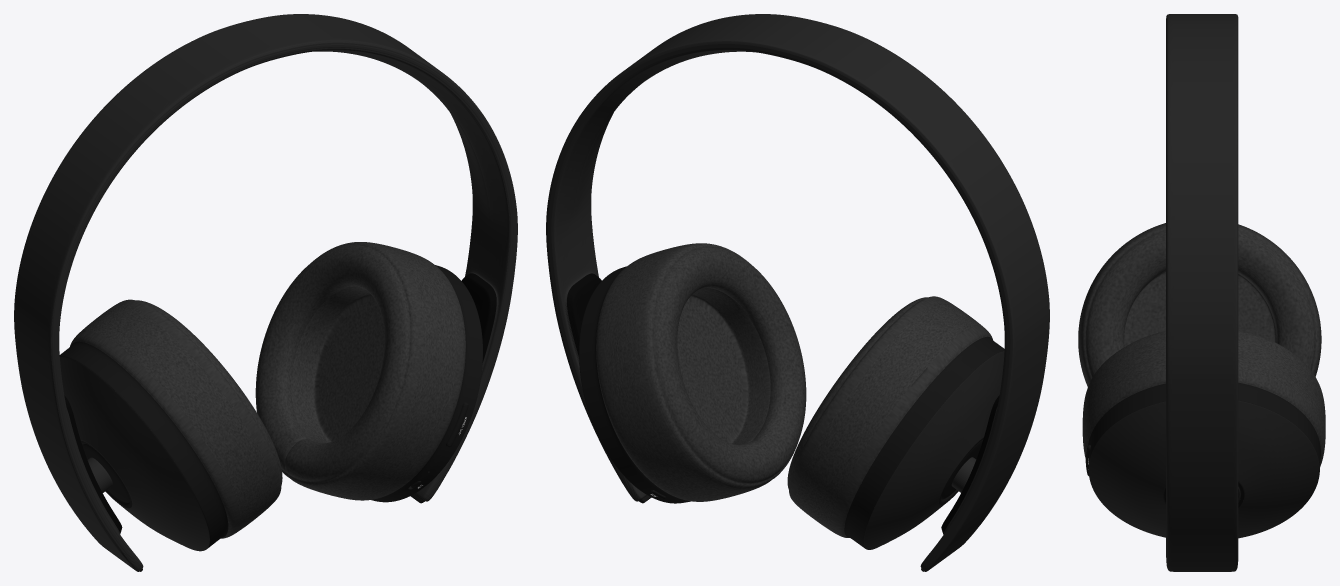
File: hinge.glb
3 renders of one model, left to right at view 1: azimuth 30°, elevation 25°; view 2: azimuth 150°, elevation 25°; view 3: azimuth 270°, elevation 25°, orthographic. The views are drawn at different scales.
Parts seen in each view (by area): view 1: Scaffold, EarDeco, Ear; view 2: EarDeco, Scaffold, Ear; view 3: Scaffold, EarDeco, Ear.
Boxes of the visible parts, bbox=[...] form: Scaffold: bbox=[14, 14, 517, 571]; EarDeco: bbox=[255, 242, 482, 502]; Ear: bbox=[59, 299, 282, 551]; EarDeco: bbox=[579, 243, 806, 503]; Scaffold: bbox=[546, 14, 1049, 571]; Ear: bbox=[787, 296, 1004, 549]; Scaffold: bbox=[1166, 14, 1238, 571]; EarDeco: bbox=[1082, 330, 1325, 538]; Ear: bbox=[1078, 223, 1321, 386].
Size of the model in its own units: 8.62 by 8.67 by 4.16.
Materials: 8 (2 with a texture image).
